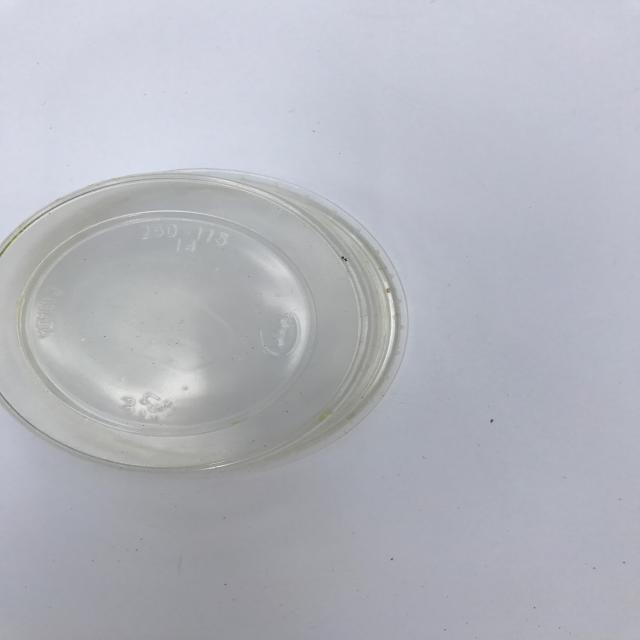Plastic: (0, 142, 443, 488)
